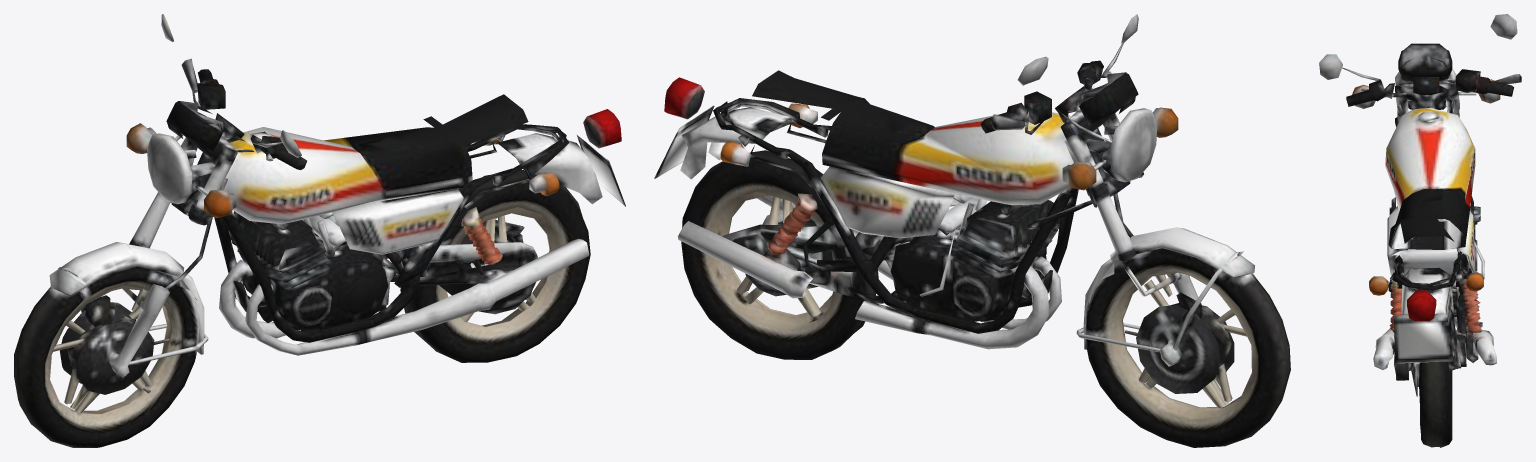
The model's file is honda.glb.
3 renders of one model, left to right at view 1: azimuth 30°, elevation 25°; view 2: azimuth 150°, elevation 25°; view 3: azimuth 270°, elevation 25°, orthographic. The views are drawn at different scales.
Visible parts, largest first — view 1: Object_01; view 2: Object_01; view 3: Object_01.
Part boxes in pixels (x1,y1,x2,y2): Object_01: [14, 14, 625, 447]; Object_01: [654, 14, 1290, 447]; Object_01: [1319, 14, 1521, 447].
Bounding box in the file's own units: 1 × 0.6184 × 0.3659.
Materials: 1 (1 with a texture image).
